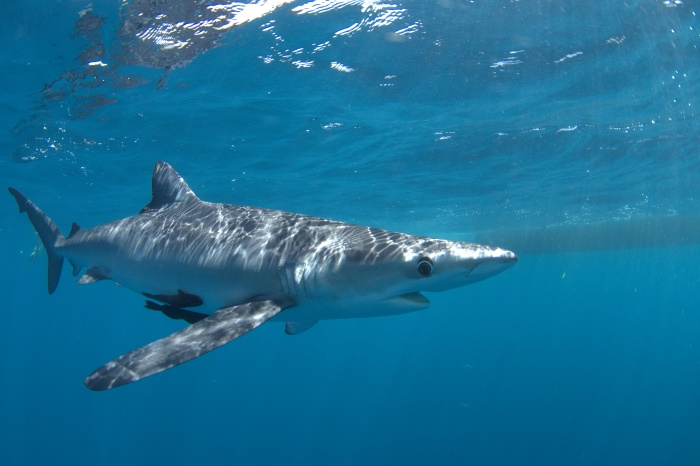Azul: (1, 121, 540, 415)
